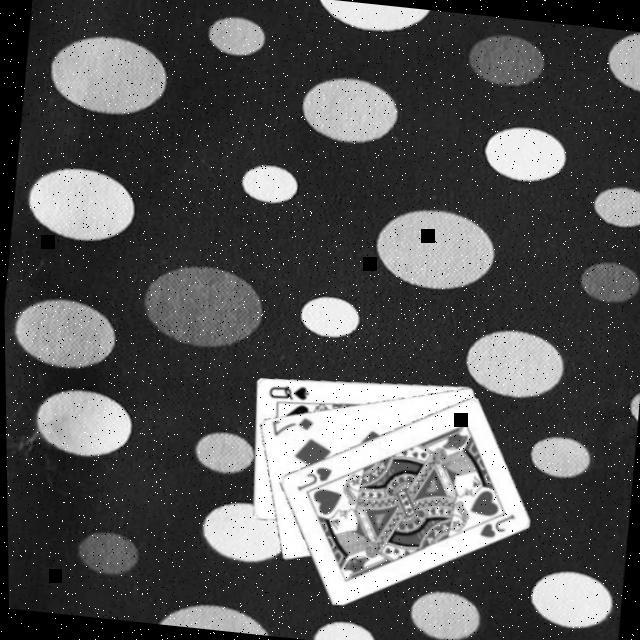7D: (267, 409, 317, 442)
JH: (293, 459, 335, 497), (475, 507, 517, 543)
QS: (265, 377, 312, 403)
